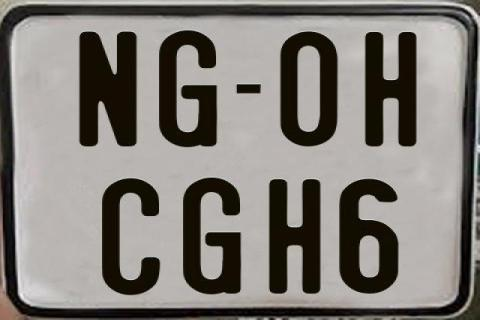0: (339, 178, 402, 294), (277, 31, 338, 147)
C: (102, 178, 166, 300)
G: (182, 177, 244, 295), (159, 30, 220, 146)
H: (268, 178, 322, 298), (363, 31, 416, 145)
N: (78, 30, 139, 148)
